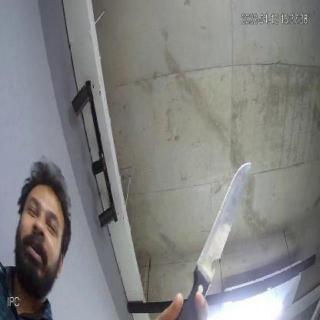knife: (194, 162, 256, 292)
